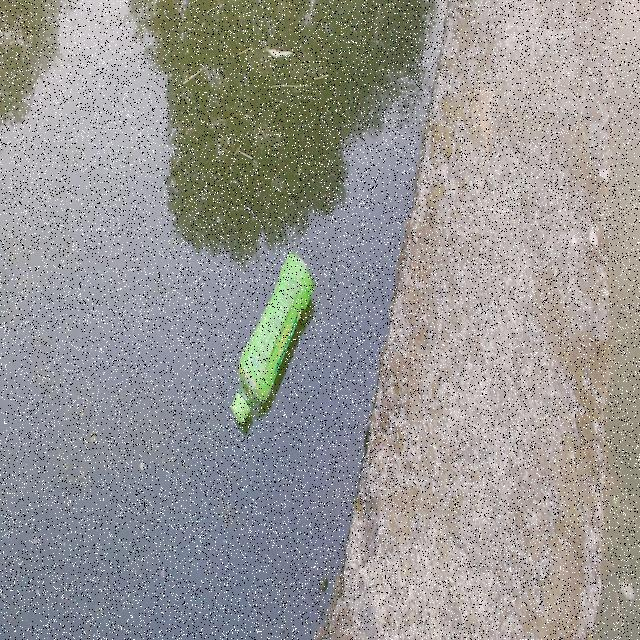Bottle: (225, 247, 317, 434)
